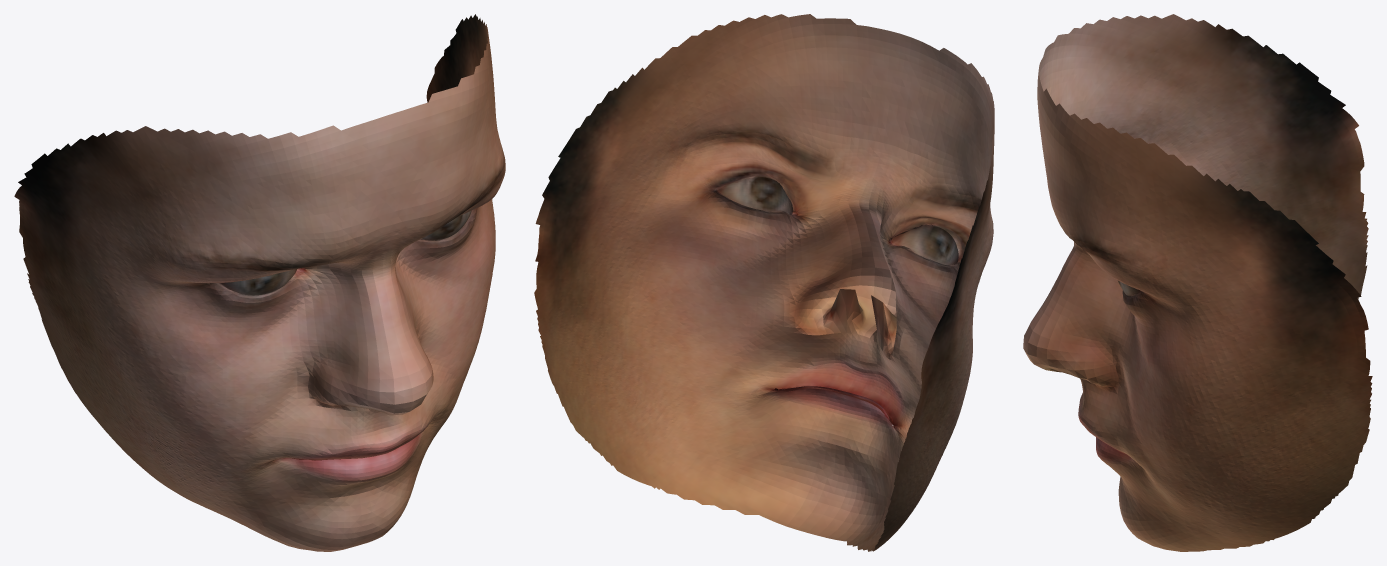
The model's file is angry2_mesh.obj.
The picture shows the model from 3 angles, left to right: view 1: azimuth 30°, elevation 25°; view 2: azimuth 150°, elevation 25°; view 3: azimuth 270°, elevation 25°; orthographic projection. The views are drawn at different scales.
Bounding box in the file's own units: 1.36 × 1.5 × 1.02.
